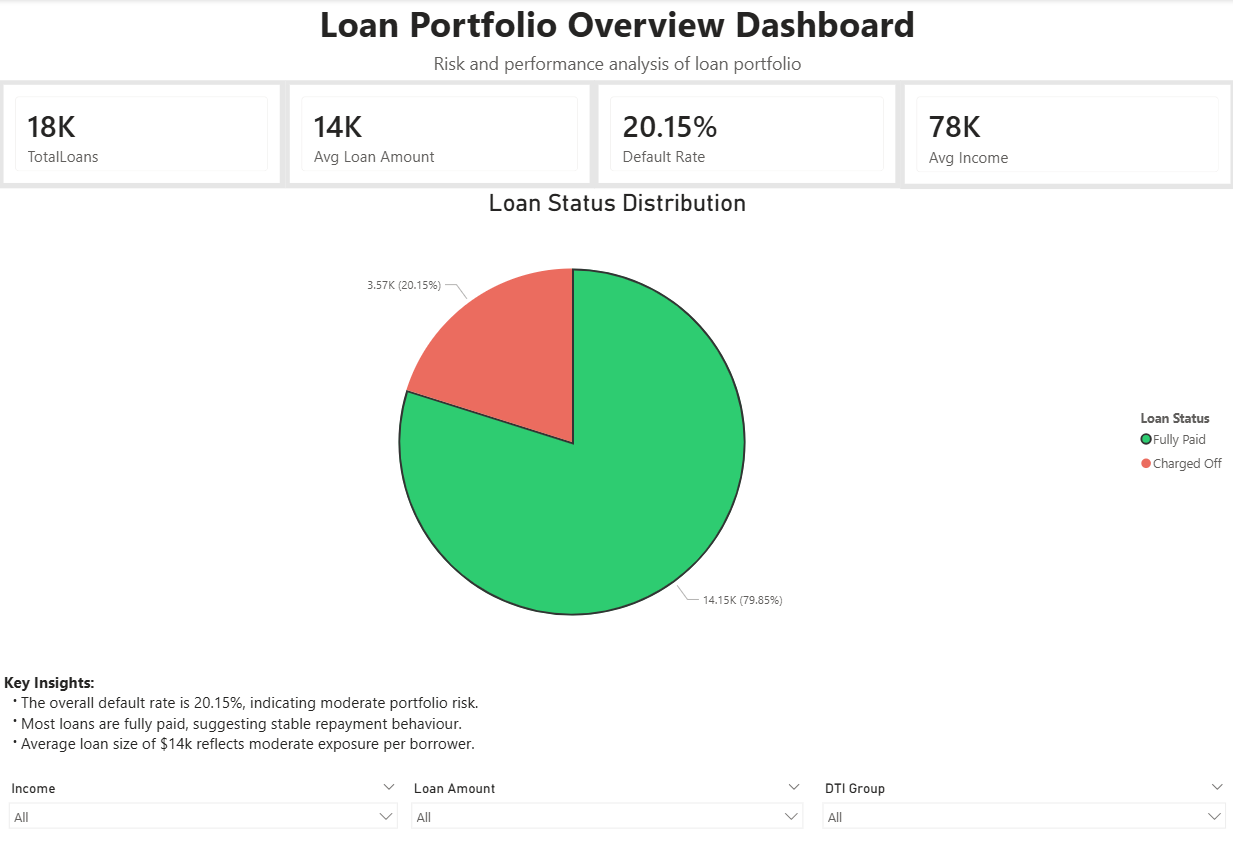

The dashboard page shown, as its layout file describes it:
{"tool":"powerbi","page":{"name":"Page 1","canvas":[1300,900],"ordinal":0},"visuals":[{"type":"pieChart","title":"Loan Status Distribution","fields":{"Category":["loan_analysis_output.Custom"],"Y":["CountNonNull(loan_analysis_output.Custom)"]},"box":[0,199.3,1300.3,504.5],"z":0},{"type":"slicer","fields":{"Values":["loan_analysis_output.Income Group"]},"box":[0,816.7,429.2,83.6],"z":1000},{"type":"slicer","fields":{"Values":["loan_analysis_output.Loan Amount Group"]},"box":[423.7,816.7,432,83.6],"z":2000},{"type":"textbox","title":"Loan Portfolio Overview Dashboard","box":[0,0,1300.3,85],"z":3000},{"type":"cardVisual","fields":{"Data":["loan_analysis_output.TotalLoans"]},"box":[0,85.1,300.5,113.9],"z":4000},{"type":"cardVisual","fields":{"Data":["Avg(loan_analysis_output.annual_inc)"]},"box":[947.7,85,352.6,114.3],"z":5000},{"type":"cardVisual","fields":{"Data":["loan_analysis_output.DefaultRate"]},"box":[625.7,85.1,322.5,113.9],"z":6000},{"type":"cardVisual","fields":{"Data":["Avg(loan_analysis_output.loan_amnt)"]},"box":[300.5,85.1,325.2,113.9],"z":7000},{"type":"slicer","fields":{"Values":["loan_analysis_output.DTI Group"]},"box":[855.7,816.7,444.6,83.6],"z":7001},{"type":"textbox","box":[0,702.4,1300.3,114.3],"z":7002}]}

Visuals, with their boxes in screenshot pixels (x1, y1, x2, y2), scaled from the page's 1300x900 canvas onto the 1233x853 screenshot:
"Loan Status Distribution" pieChart: 0 189 1232 667
slicer - loan_analysis_output.Income Group: 0 774 407 852
slicer - loan_analysis_output.Loan Amount Group: 402 774 812 852
"Loan Portfolio Overview Dashboard" textbox: 0 0 1232 81
cardVisual - loan_analysis_output.TotalLoans: 0 81 285 189
cardVisual - Avg(loan_analysis_output.annual_inc): 899 81 1232 189
cardVisual - loan_analysis_output.DefaultRate: 593 81 899 189
cardVisual - Avg(loan_analysis_output.loan_amnt): 285 81 593 189
slicer - loan_analysis_output.DTI Group: 812 774 1232 852
textbox: 0 666 1232 774
